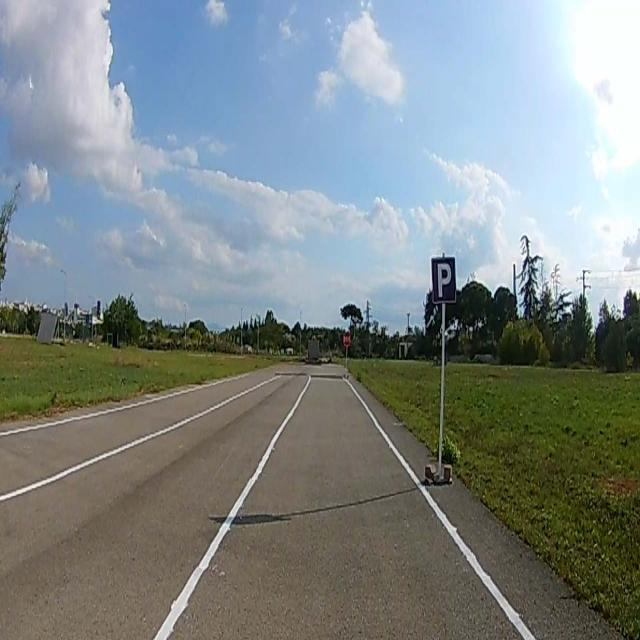park: (431, 257, 455, 302)
